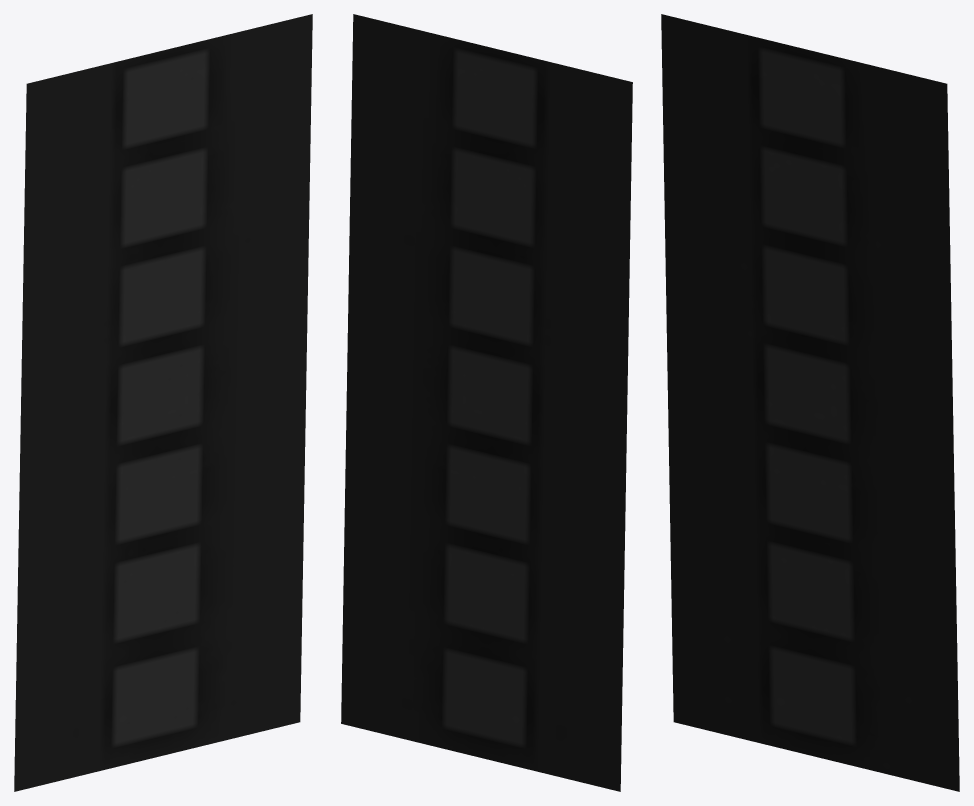
3 views of the same model, side by side, from view 1: azimuth 30°, elevation 25°; view 2: azimuth 150°, elevation 25°; view 3: azimuth 330°, elevation 25° (orthographic). The views are drawn at different scales.
Visible parts, largest first — view 1: scorebord.001; view 2: scorebord.001; view 3: scorebord.001.
Part boxes in pixels (<box>): scorebord.001: <box>14,14,312,791</box>; scorebord.001: <box>341,14,632,791</box>; scorebord.001: <box>661,14,959,791</box>.
Size of the model in its own units: 0.00295 by 0.00706 by 0.000222.
Materials: 1 (1 with a texture image).
